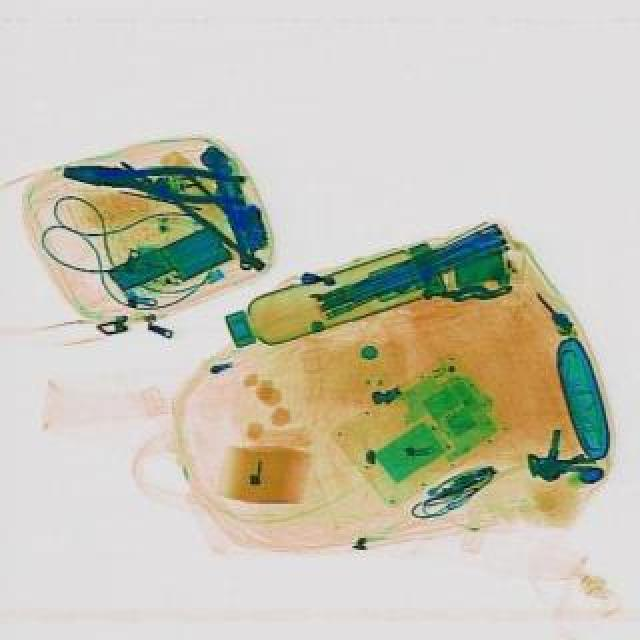wrench: (58, 150, 250, 210)
